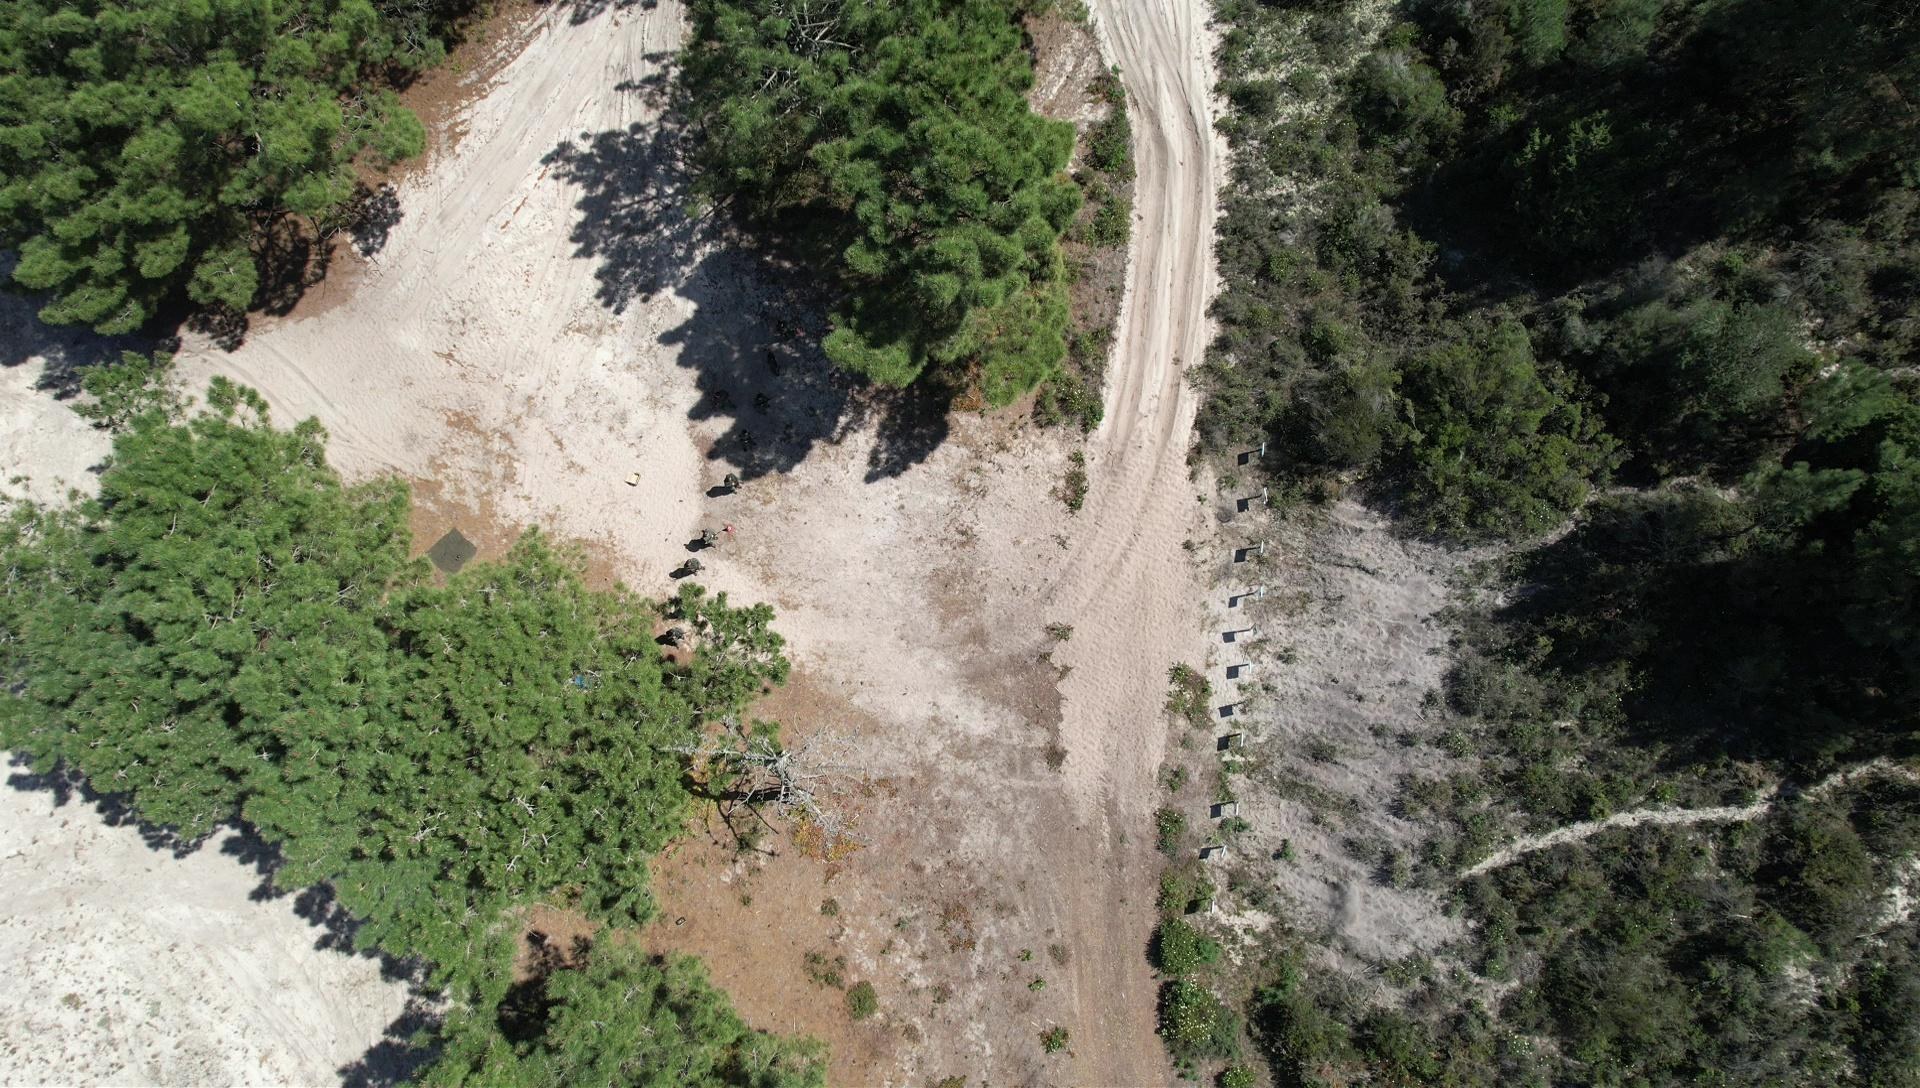Soldier: (709, 381, 741, 412), (733, 424, 760, 454), (762, 350, 785, 382), (746, 385, 768, 417), (721, 469, 746, 496), (694, 527, 721, 551), (679, 555, 704, 579), (664, 625, 690, 648)
